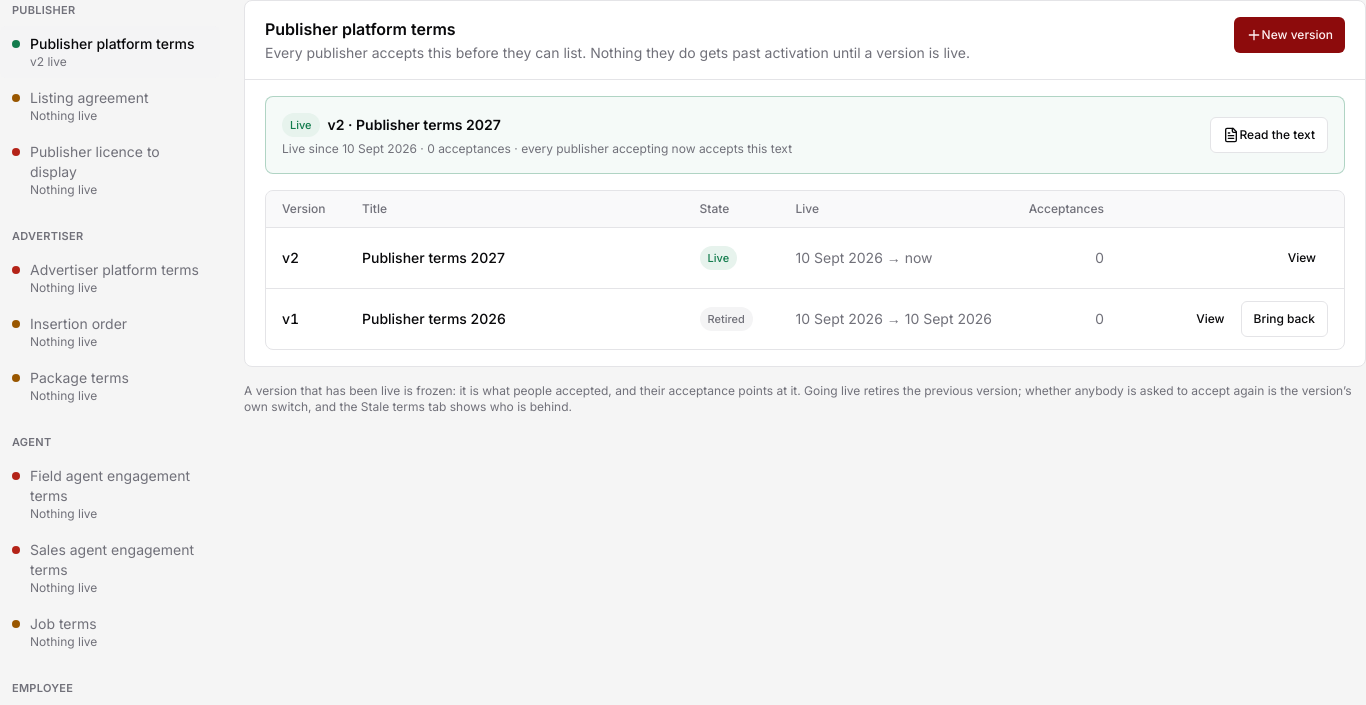
Scenario: going live, and the versions after it › freezes a retired version — no edit, no discard, only bringing it back
The width and height of the screenshot is (1366, 705).
Expected: the text "Retired" is shown, top-left (700, 307), bottom-right (753, 331)
Step 1. Click the button "Bring back" → [1284, 319], box top-left (1240, 301), bottom-right (1328, 337)
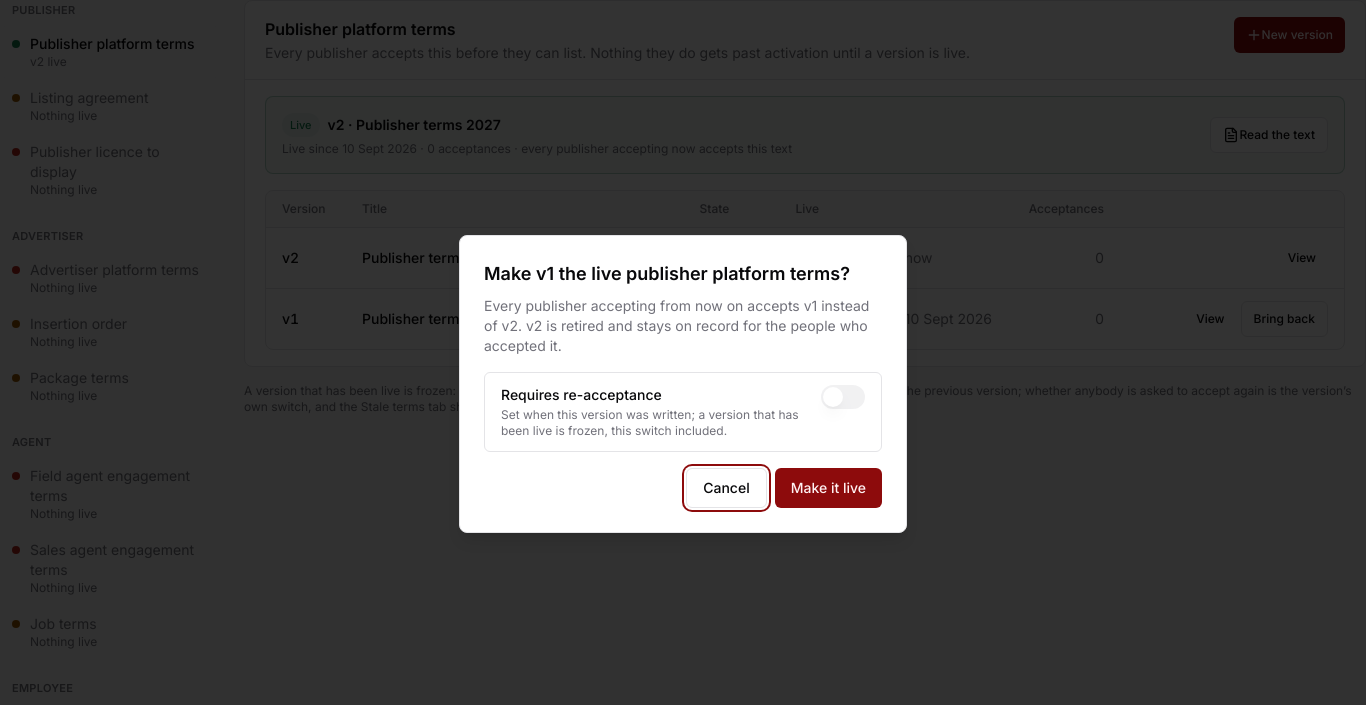
Step 2. Click the button "Make it live" → [828, 488], box top-left (775, 468), bottom-right (882, 508)
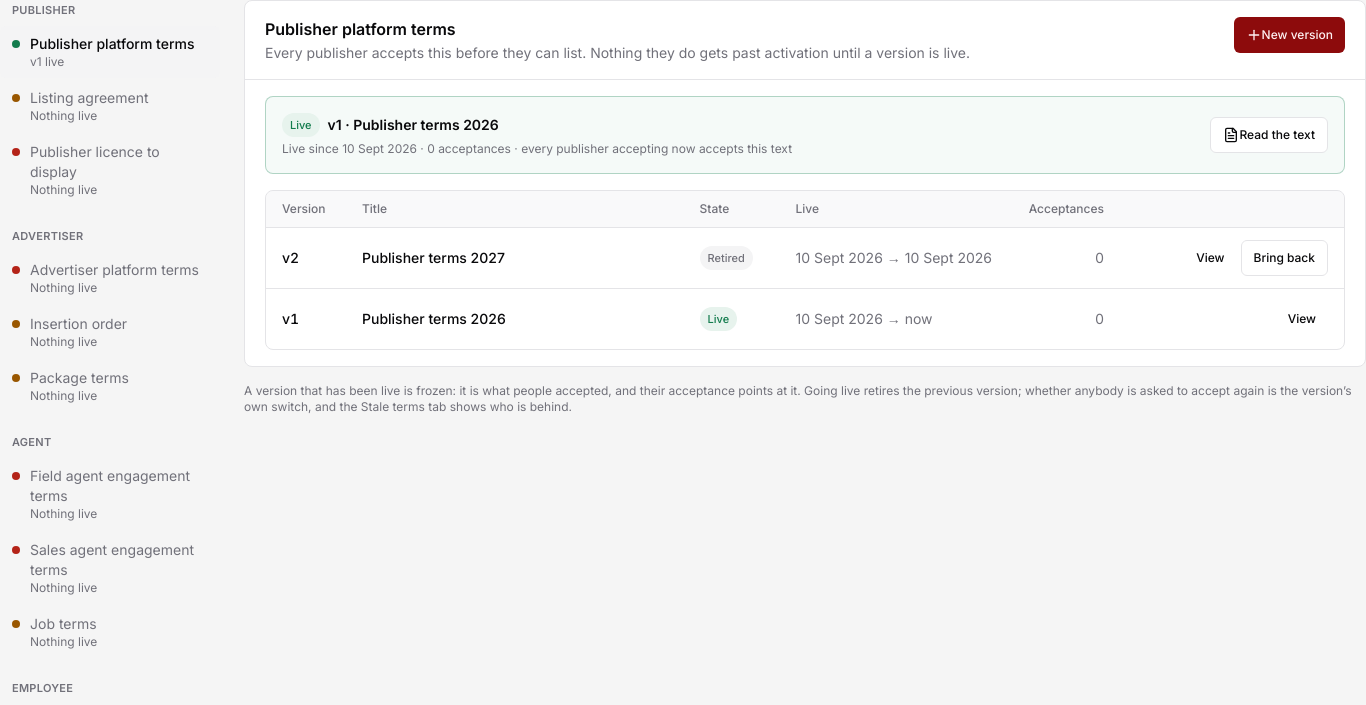
Now the text "Live" in the row of "→ now" is shown, box top-left (708, 312), bottom-right (729, 326)
Now the text "Retired" is shown, box top-left (700, 246), bottom-right (753, 270)
